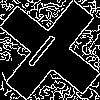I: (25, 25, 64, 69)
